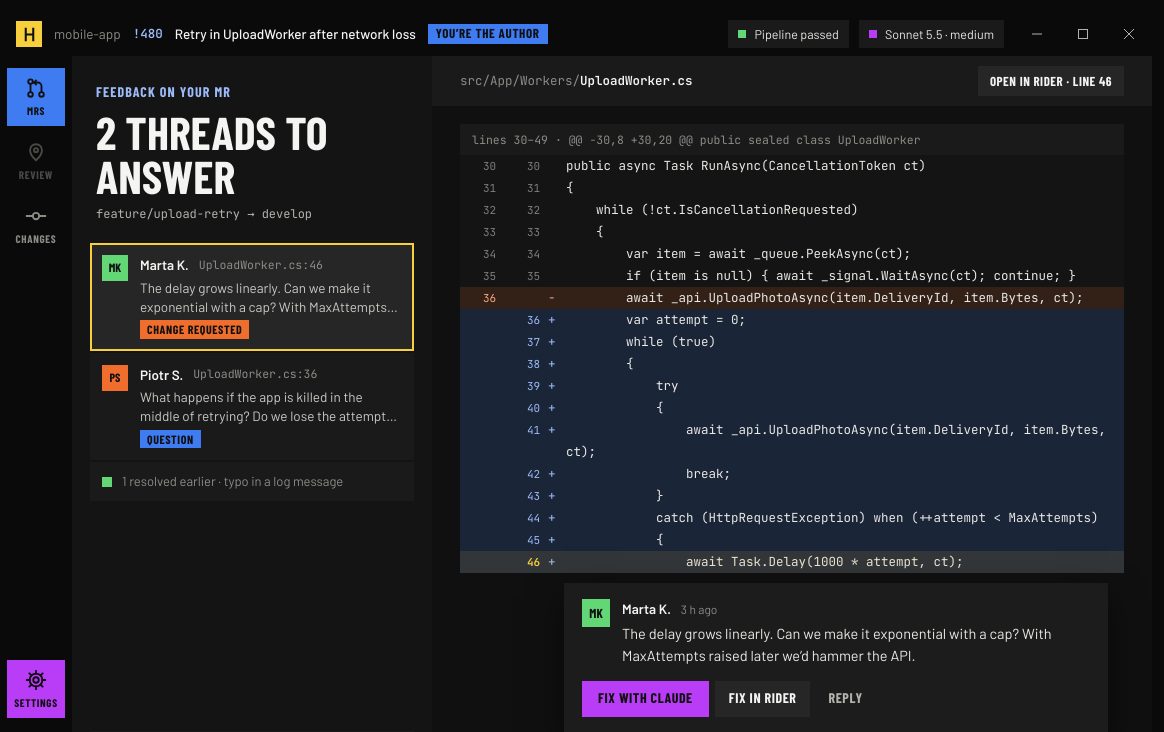
S-10 question thread: reply composer (F-26.7) › F-26.7 Draft with Claude asks for this thread and fills the text area without sending it
Click the option that starts with "Piotr S.": point(252, 406) [90,353,414,460]
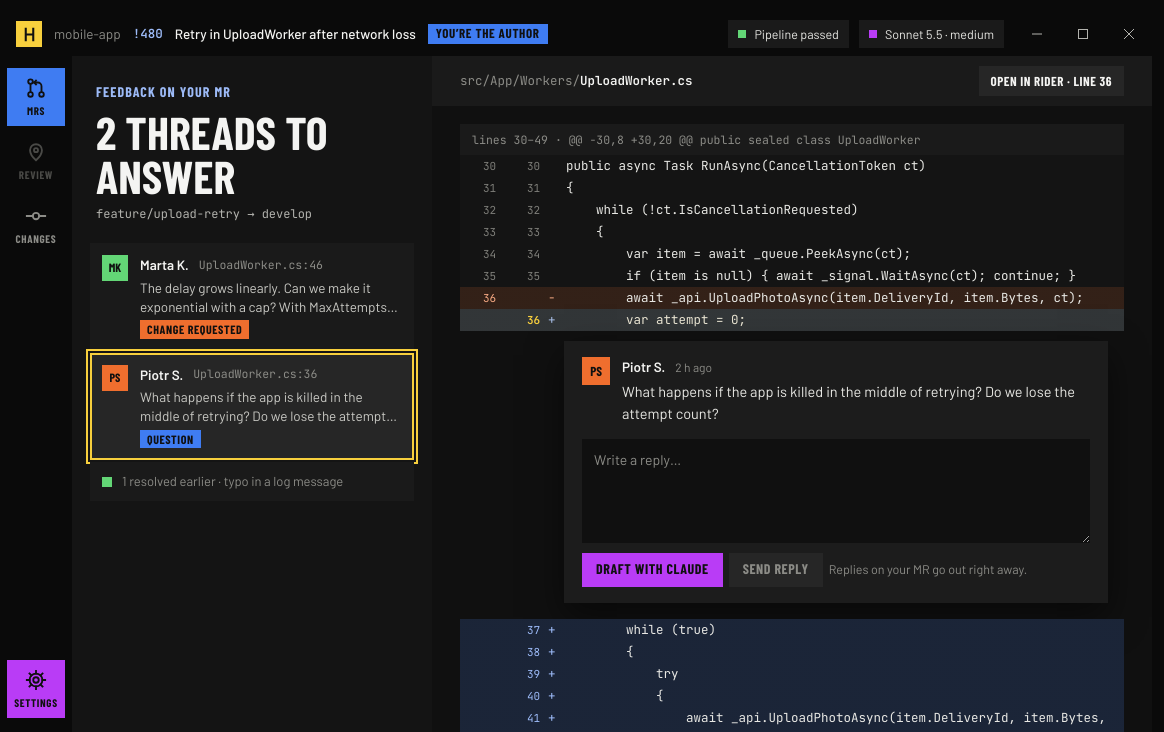
expect the button "Open in Rider · line 36" is shown: met, box [978,66,1124,96]
expect the text "What happens if the app is killed in the middle of retrying?" below "2 h ago" is shown: met, box [622,382,1078,422]
Click the button "Draft with Claude": point(652, 570) [582,552,723,586]
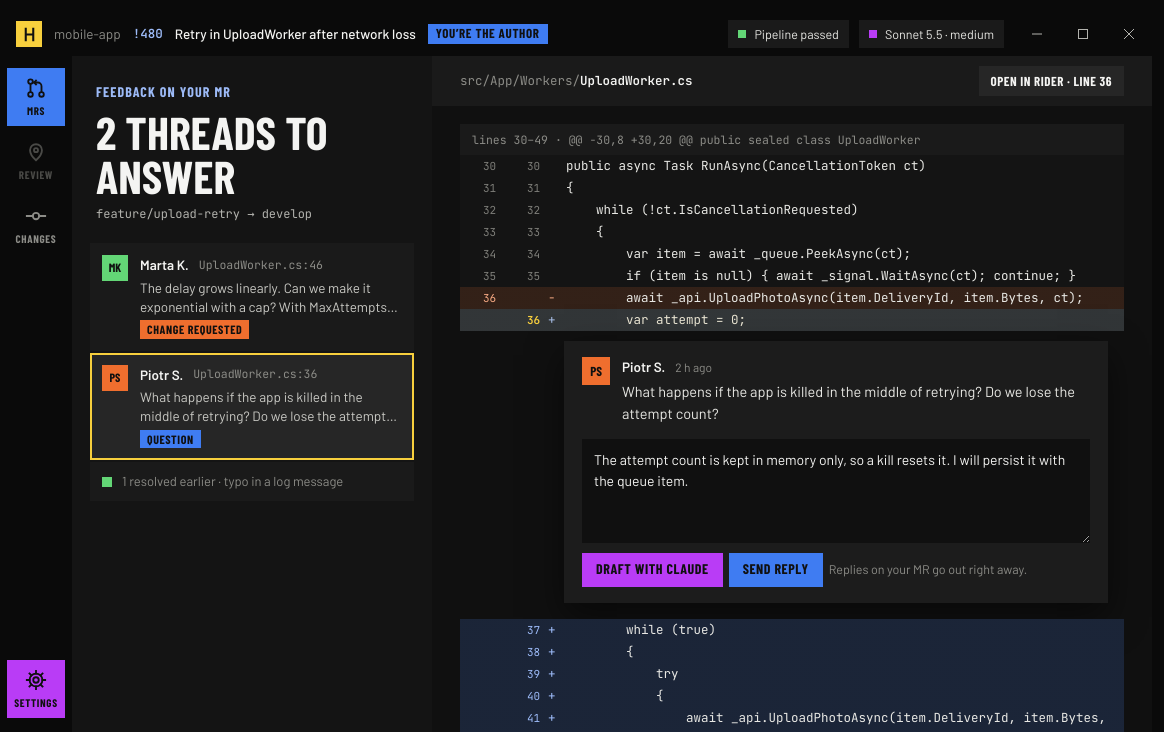
expect the button "Draft with Claude" is enabled: met, box [582,552,723,586]
expect the text box holds "The attempt count is kept in memory only, so a kill resets it. I will persist it with the queue item.": met, box [582,438,1090,542]
expect the button "Send reply" is enabled: met, box [729,552,823,586]
